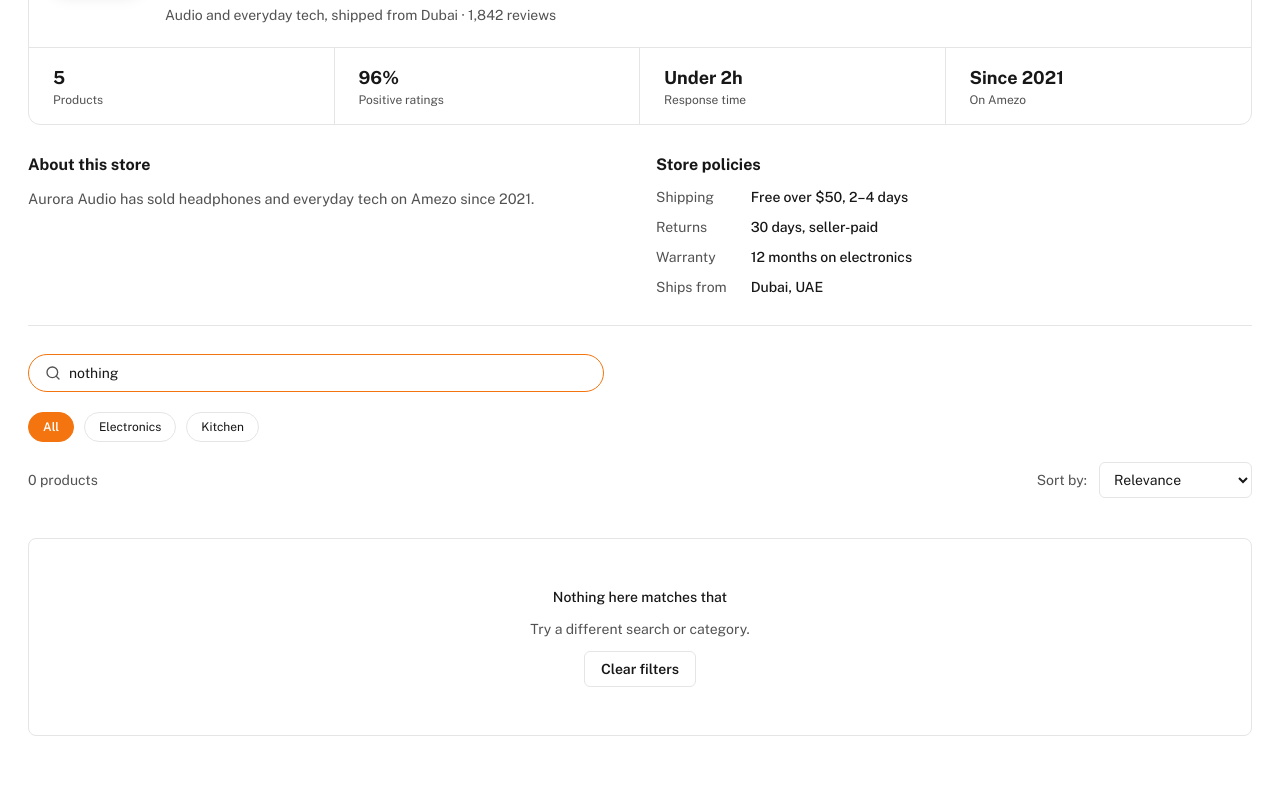
StoreFront › tells an empty filter apart from an empty store
(page scrolled)
Expected: the text "Nothing here matches that" is shown, [553, 587, 727, 607]
Click the button "Clear filters": (640, 669) [584, 651, 696, 687]
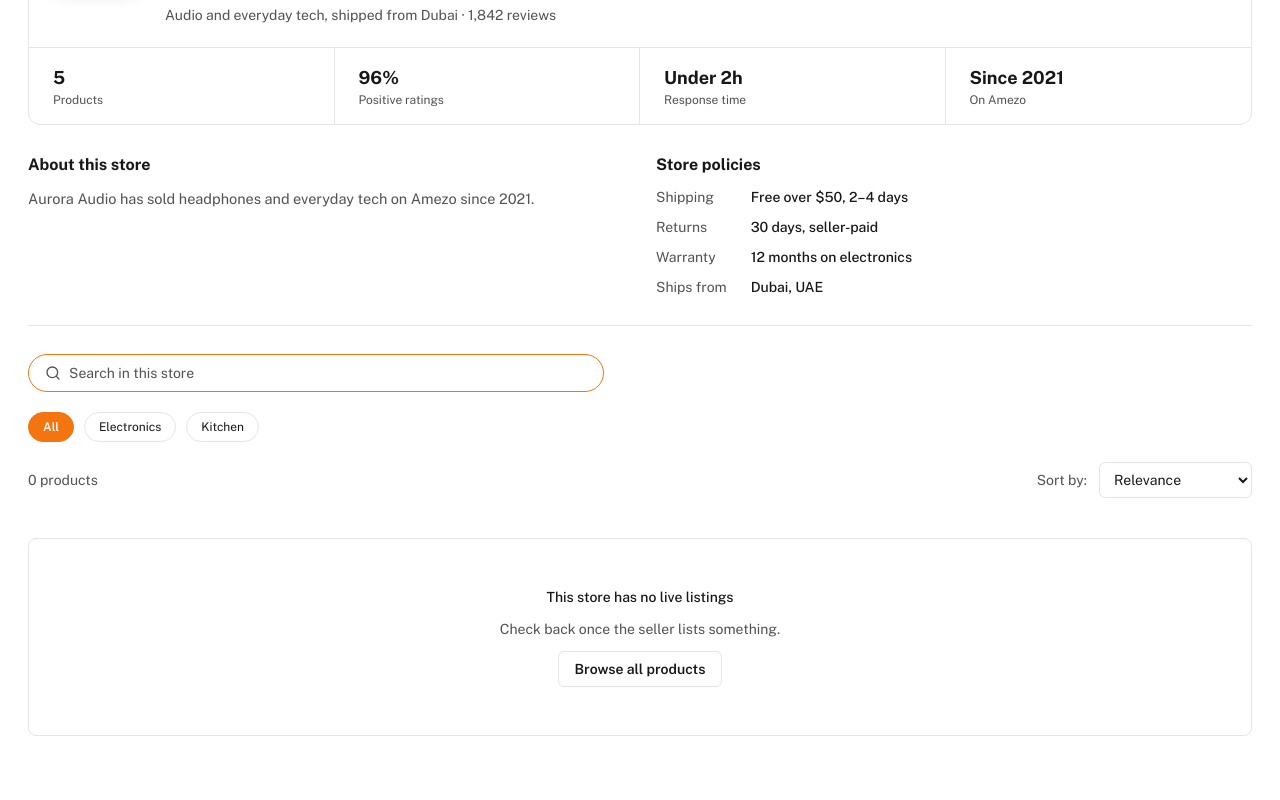
Now the text "This store has no live listings" is shown, box [546, 587, 733, 607]
